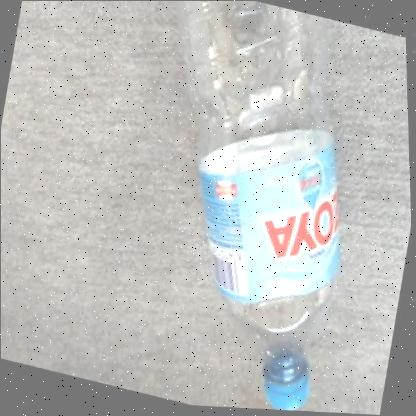Plastic Bottle: (180, 1, 342, 409)
